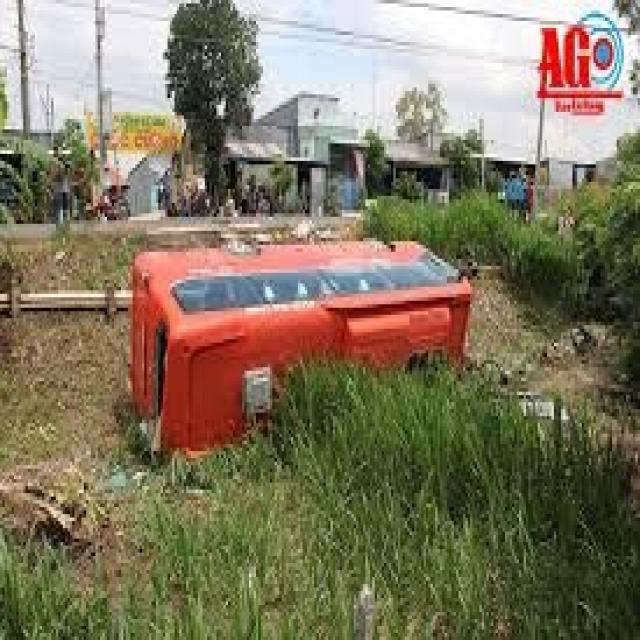accident: (98, 222, 495, 442)
